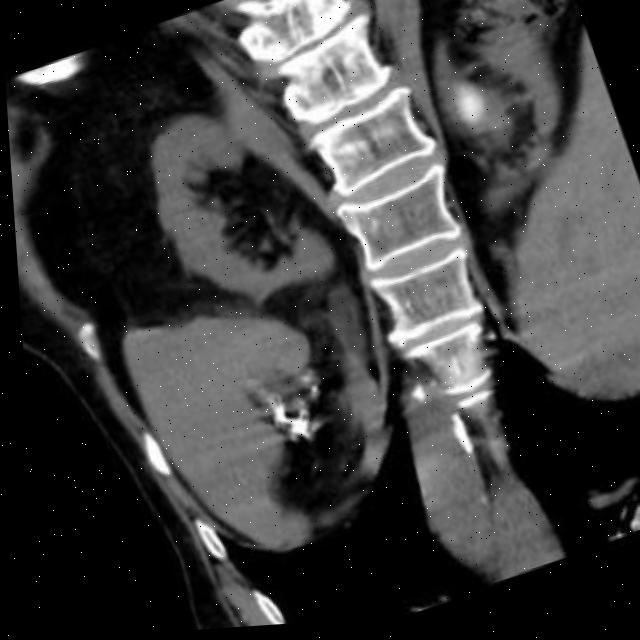Tas_Var: (433, 71, 496, 143)
